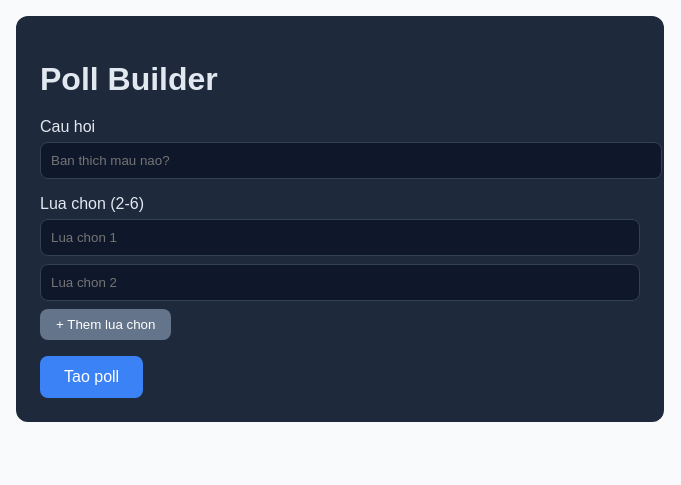
Scenario: CreatePoll › báo lỗi khi thiếu lựa chọn hợp lệ
Type "Bạn thích màu gì?" into the field with placeholder "Ban thich mau nao?".
click(351, 161); type("Bạn thích màu gì?")  # box x1=40 y1=142 x2=662 y2=179
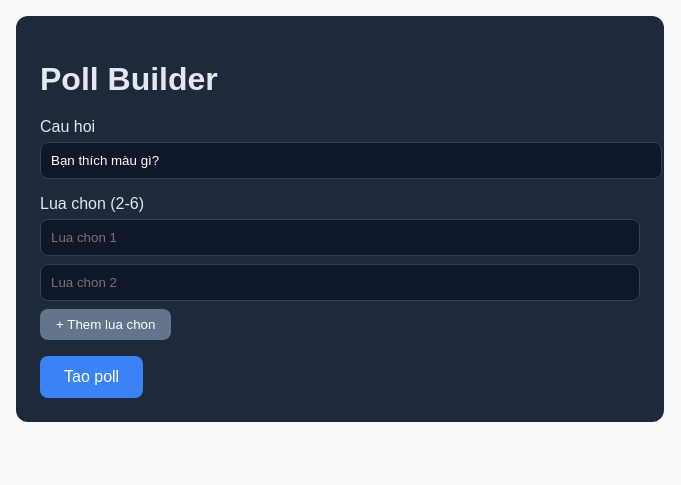
Click the button "Tao poll".
click(92, 377)  # box x1=40 y1=356 x2=143 y2=398
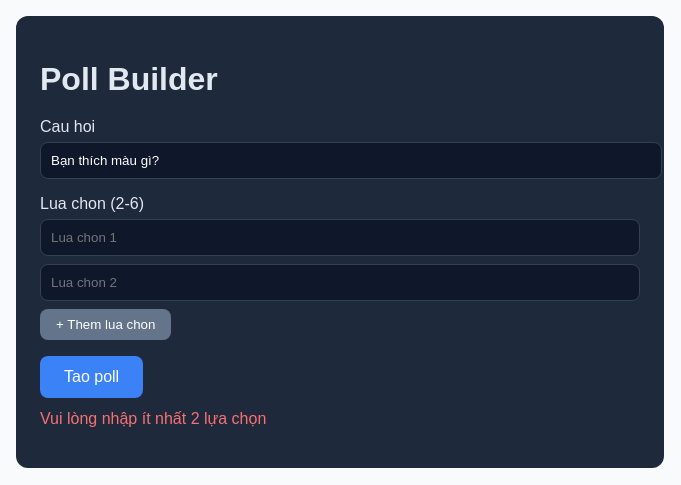
Check: the text "Vui lòng nhập ít nhất 2 lựa chọn" is shown, box x1=40 y1=410 x2=266 y2=427
